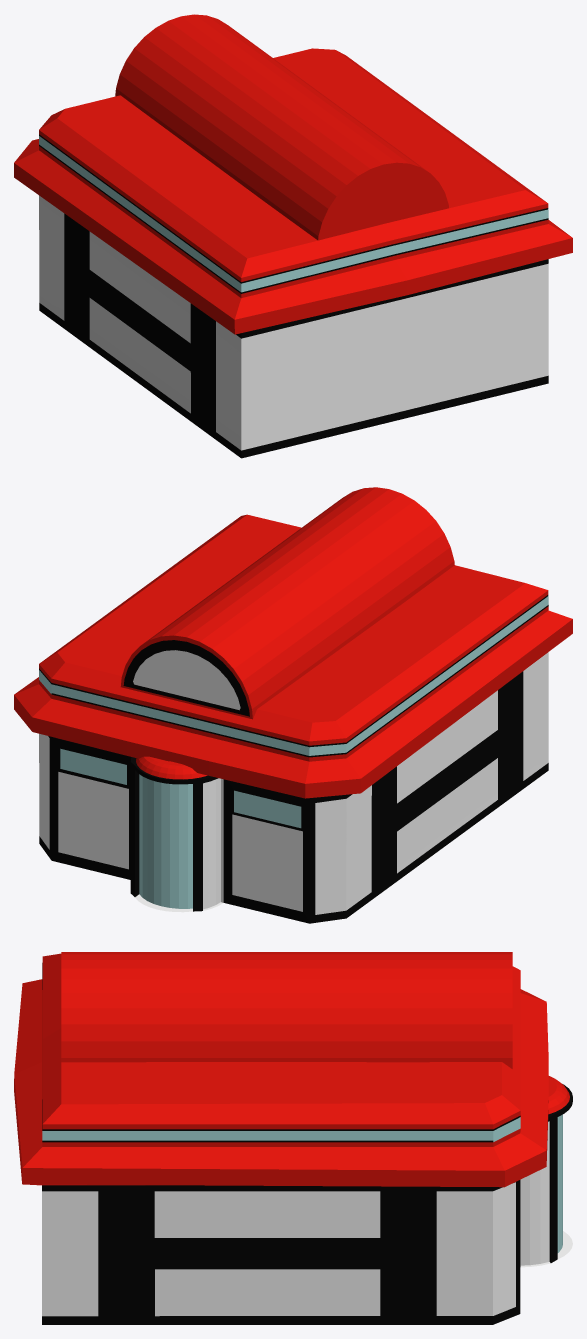
File: mijnpokecenter.fbx
The picture shows the model from 3 angles, top to bottom: view 1: azimuth 30°, elevation 25°; view 2: azimuth 150°, elevation 25°; view 3: azimuth 270°, elevation 25°; orthographic projection. The views are drawn at different scales.
Parts seen in each view (by area): view 1: Cylinder; view 2: Cylinder; view 3: Cylinder.
Boxes of the visible parts, bbox=[...] form: Cylinder: bbox=[14, 14, 572, 458]; Cylinder: bbox=[14, 487, 572, 923]; Cylinder: bbox=[14, 952, 572, 1324].
Size of the model in its own units: 847 by 590 by 1060.
